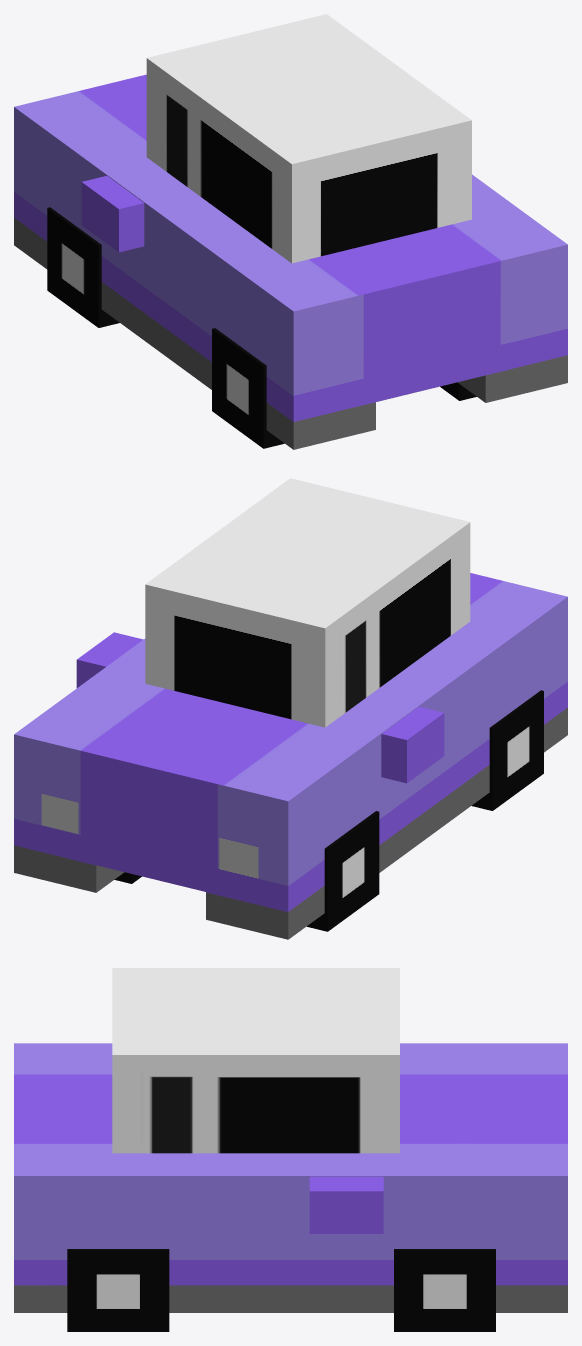
The model's file is purple car.fbx.
The picture shows the model from 3 angles, top to bottom: view 1: azimuth 30°, elevation 25°; view 2: azimuth 150°, elevation 25°; view 3: azimuth 270°, elevation 25°; orthographic projection.
Visible parts, largest first — view 1: midden, dakje, wiel5, wiel6, deurknop3; view 2: midden, dakje, wiel6, wiel5, deurknop3, deurknop1; view 3: midden, dakje, wiel4, wiel3, deurknop1.
Part boxes in pixels (box(x1,y1,x2,y2)): midden: box(14, 74, 567, 449); dakje: box(146, 14, 471, 263); wiel5: box(212, 328, 284, 448); wiel6: box(47, 207, 119, 327); deurknop3: box(81, 176, 144, 252); midden: box(14, 573, 567, 939); dakje: box(145, 478, 470, 727); wiel6: box(307, 811, 379, 931); wiel5: box(471, 690, 543, 810); deurknop3: box(381, 706, 444, 783); deurknop1: box(76, 632, 143, 687); midden: box(14, 1043, 567, 1312); dakje: box(112, 968, 399, 1153); wiel4: box(67, 1249, 169, 1331); wiel3: box(394, 1249, 495, 1331); deurknop1: box(309, 1176, 383, 1233).
Size of the model in its own units: 2.01 by 1.48 by 2.94.
4 materials, 4 textured.
